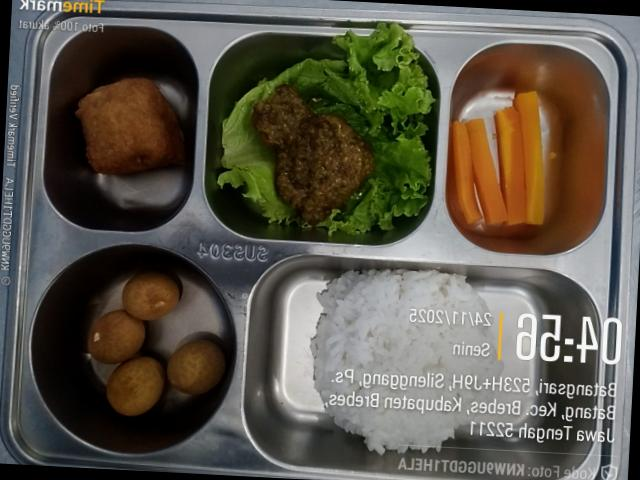ayam: (252, 84, 374, 226)
buah: (88, 272, 179, 416), (166, 340, 226, 394)
nasi: (311, 269, 503, 454)
sayur: (449, 92, 545, 225), (334, 23, 435, 137)
tahu: (76, 78, 185, 174)
